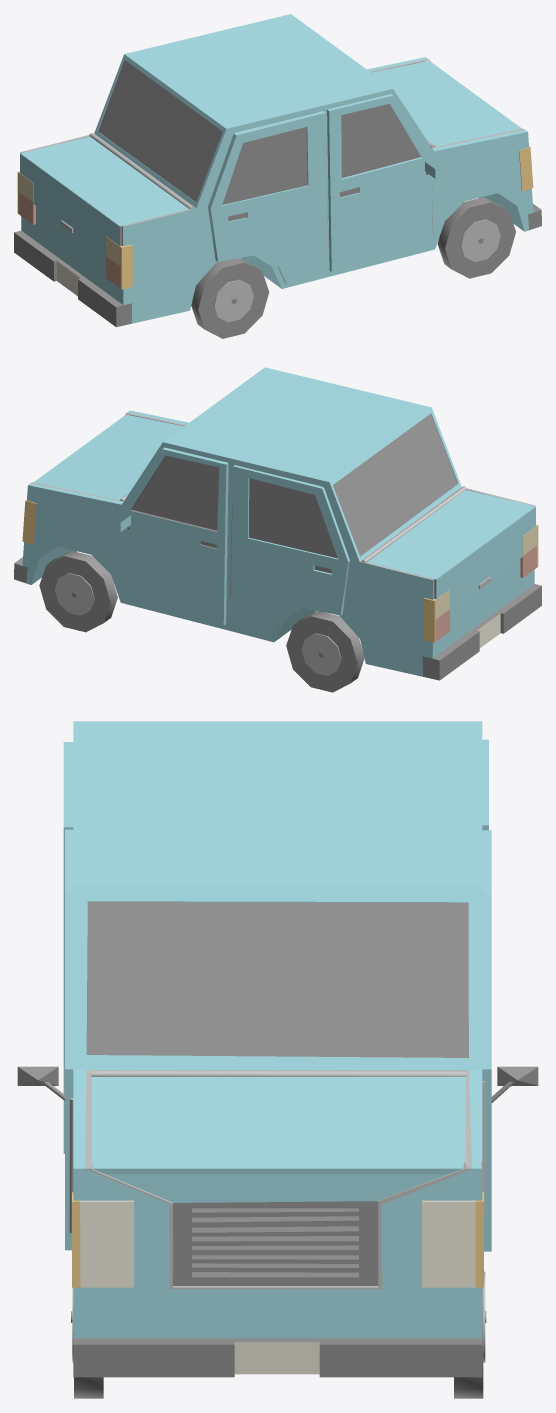
The model's file is kar20.fbx.
3 renders of one model, top to bottom at view 1: azimuth 30°, elevation 25°; view 2: azimuth 150°, elevation 25°; view 3: azimuth 270°, elevation 25°, orthographic. The views are drawn at different scales.
Visible parts, largest first — view 1: Cube_2, Cylinder_4, Cylinder, Cylinder_1, Boole, Cylinder_6, Cylinder_9; view 2: Cube_2, Cylinder_10, Cylinder_5, Cylinder_1, Boole, Cylinder_7, Cylinder_8; view 3: Cube_2, Boole, Cylinder_5, Cylinder, Cylinder_4, Cylinder_7, Cylinder_6.
Part boxes in pixels (x1=…): Cube_2: x1=14, y1=14, x2=541, y2=327; Cylinder_4: x1=208, y1=111, x2=328, y2=284; Cylinder: x1=327, y1=94, x2=435, y2=271; Cylinder_1: x1=20, y1=133, x2=194, y2=256; Boole: x1=371, y1=61, x2=521, y2=147; Cylinder_6: x1=437, y1=197, x2=515, y2=278; Cylinder_9: x1=191, y1=258, x2=269, y2=338; Cube_2: x1=14, y1=367, x2=541, y2=680; Cylinder_10: x1=230, y1=465, x2=349, y2=638; Cylinder_5: x1=120, y1=447, x2=228, y2=625; Cylinder_1: x1=361, y1=486, x2=535, y2=609; Boole: x1=33, y1=414, x2=183, y2=501; Cylinder_7: x1=39, y1=550, x2=117, y2=632; Cylinder_8: x1=286, y1=611, x2=364, y2=692; Cube_2: x1=72, y1=721, x2=483, y2=1377; Boole: x1=91, y1=1070, x2=466, y2=1285; Cylinder_5: x1=482, y1=830, x2=538, y2=1251; Cylinder: x1=17, y1=829, x2=73, y2=1250; Cylinder_4: x1=63, y1=742, x2=73, y2=1153; Cylinder_7: x1=454, y1=1271, x2=486, y2=1398; Cylinder_6: x1=71, y1=1287, x2=103, y2=1398.
Bounding box in the file's own units: 457 × 215 × 242.
